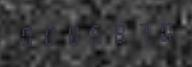eight: (105, 19, 126, 45)
five: (83, 20, 104, 46)
seven: (127, 18, 148, 45)
zero: (39, 21, 60, 48), (17, 22, 38, 48), (61, 21, 82, 47), (149, 18, 170, 44)
